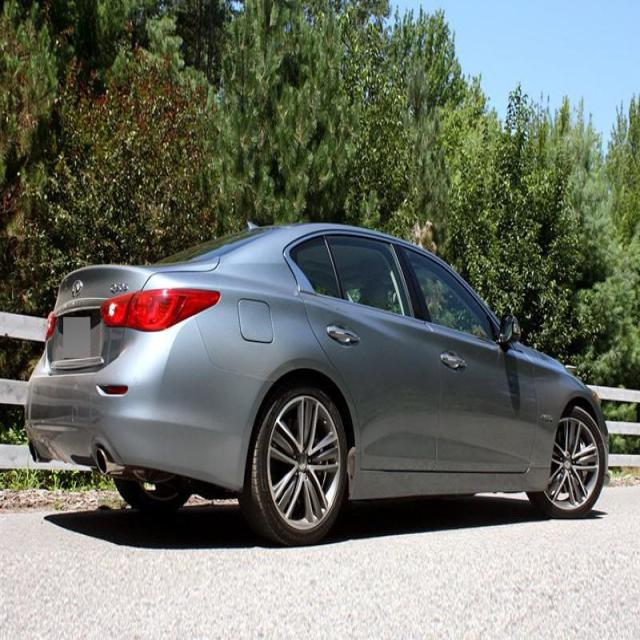back_right_side_light: (100, 284, 222, 333)
door: (283, 229, 441, 487)
front_right_side_door: (400, 238, 538, 483)
front_right_side_mirror: (498, 302, 521, 354)
rear_bumper: (24, 327, 267, 498)
wheel: (246, 390, 347, 546), (534, 406, 606, 511)
